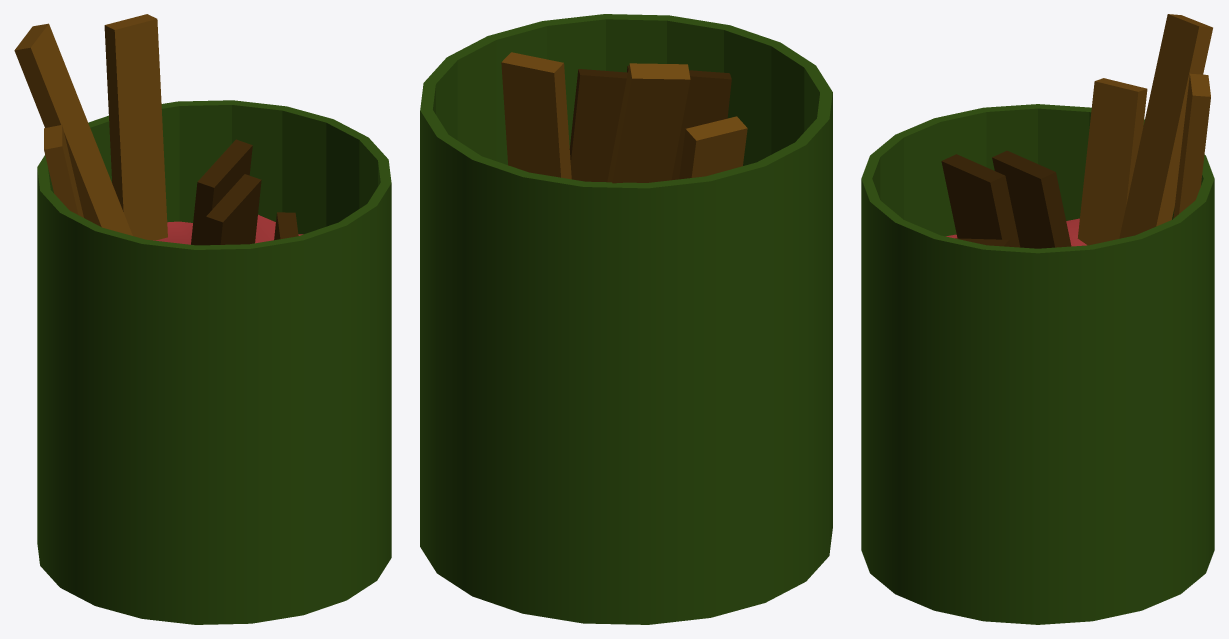
The model's file is Barrel Ember.fbx.
3 renders of one model, left to right at view 1: azimuth 30°, elevation 25°; view 2: azimuth 150°, elevation 25°; view 3: azimuth 270°, elevation 25°, orthographic. The views are drawn at different scales.
Visible parts, largest first — view 1: pCylinder1, pCube11, pCube12, pDisc1; view 2: pCylinder1, pCube11, pCube12; view 3: pCylinder1, pCube11, pCube12.
Boxes of the visible parts, x1=… form: pCylinder1: x1=37, y1=100, x2=391, y2=624; pCube11: x1=14, y1=14, x2=167, y2=240; pCube12: x1=191, y1=139, x2=298, y2=245; pDisc1: x1=153, y1=214, x2=303, y2=244; pCylinder1: x1=420, y1=14, x2=832, y2=624; pCube11: x1=501, y1=52, x2=747, y2=183; pCube12: x1=569, y1=65, x2=731, y2=182; pCylinder1: x1=861, y1=104, x2=1214, y2=624; pCube11: x1=1077, y1=14, x2=1212, y2=245; pCube12: x1=941, y1=150, x2=1071, y2=248.
Bounding box in the file's own units: 2 × 3.02 × 2.
